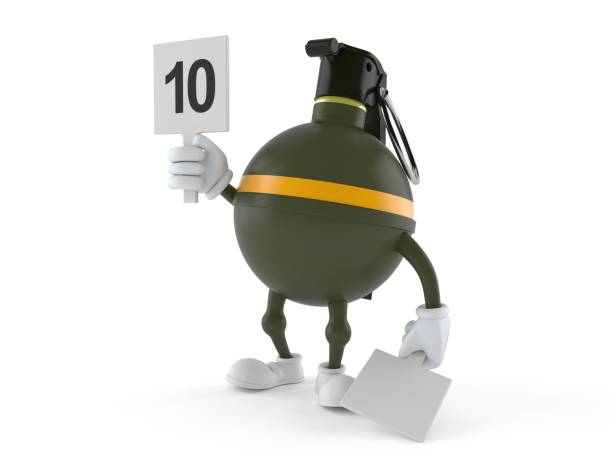e1: (234, 39, 419, 303)
